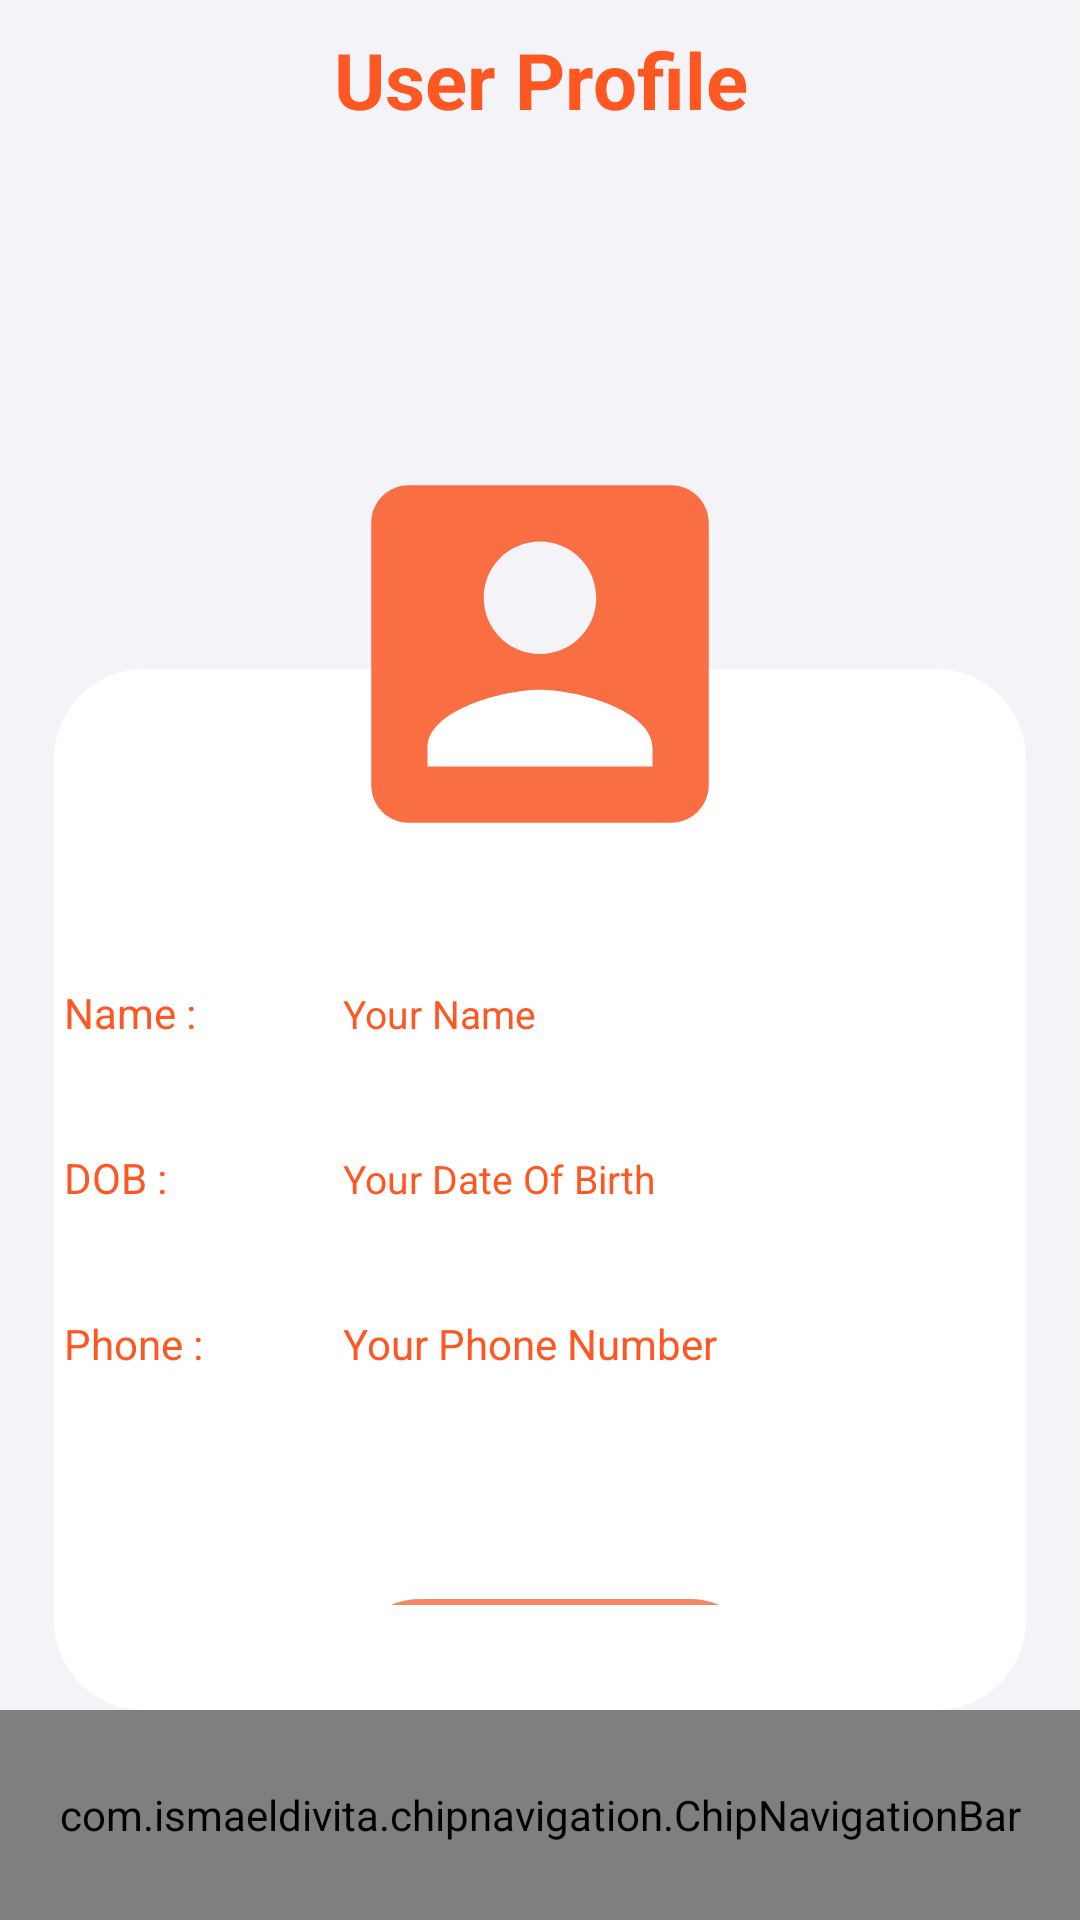

Locate icon controls on the screen. Image size 1080×1920, boxes as [x1,y1,x2,y2].
account box: [371,485,709,823]
